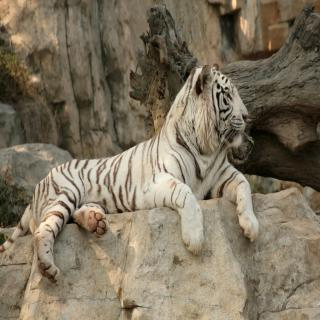Tiger: (0, 64, 258, 284)
